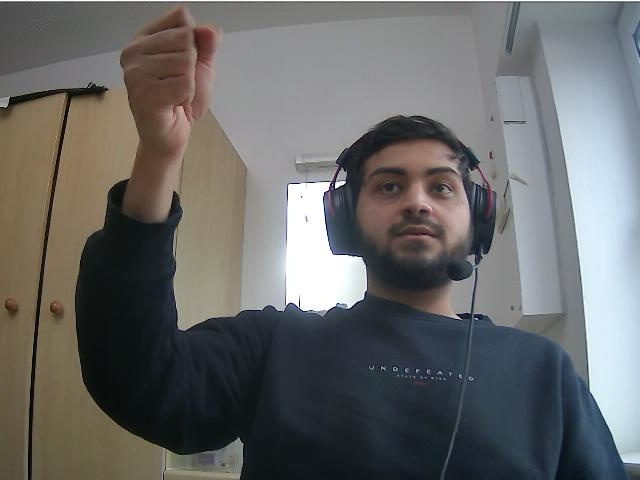hold: (119, 4, 218, 142)
